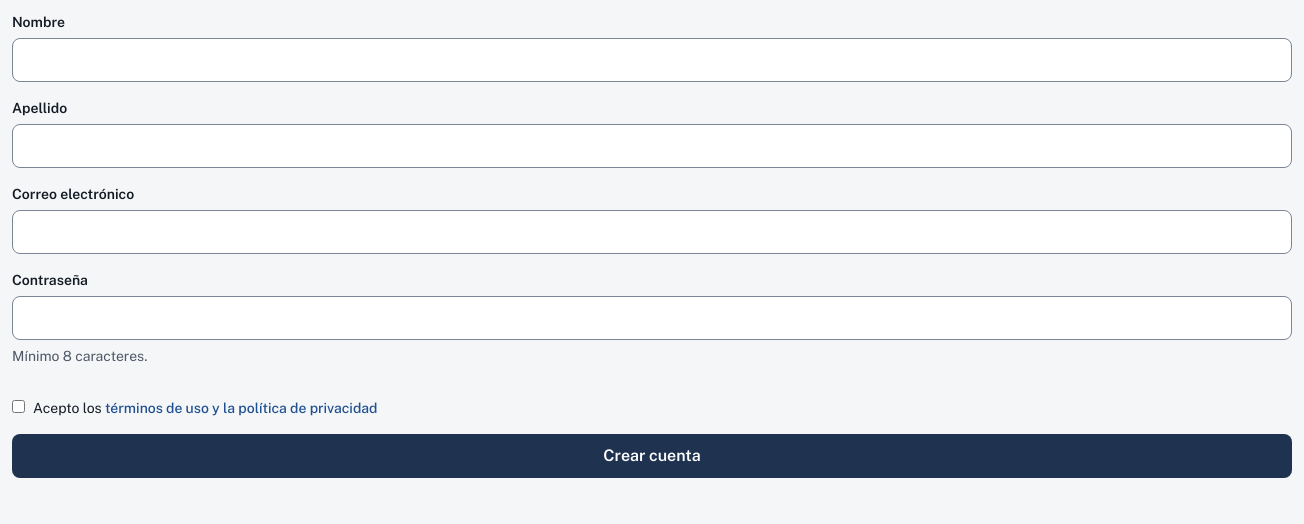
FormularioRegistro con captcha (NC-08b, Turnstile) › sin completar la verificación no envía y muestra el error en línea
This screenshot has width=1304, height=524.
In the field labelled "Nombre": (652, 60) top-left (12, 38), bottom-right (1292, 82), type "Ana"
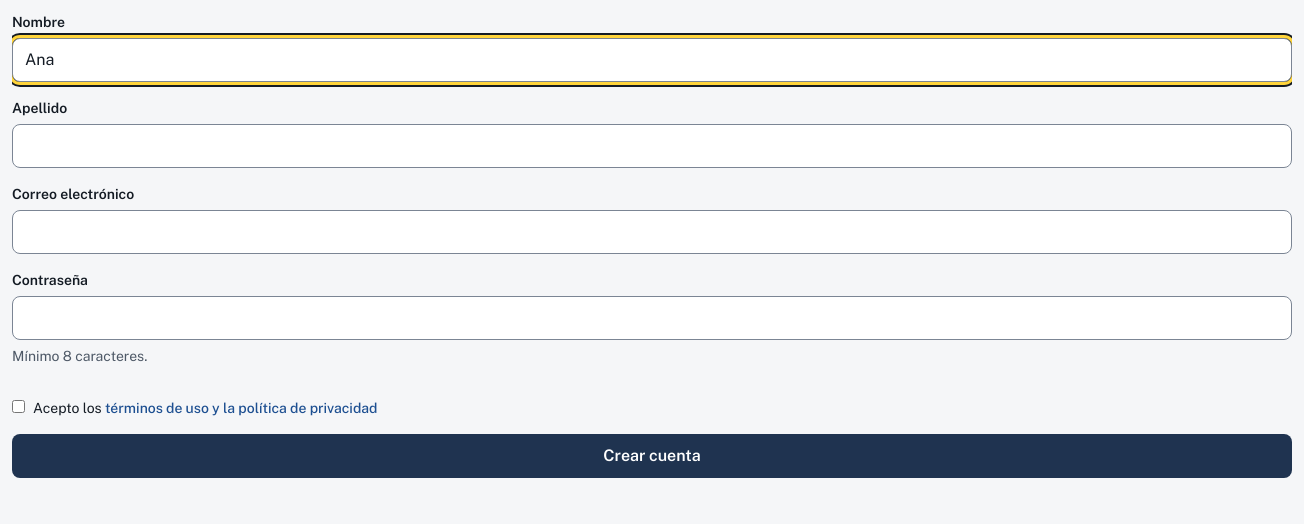
In the field labelled "Apellido": (652, 146) top-left (12, 124), bottom-right (1292, 168), type "Quispe"
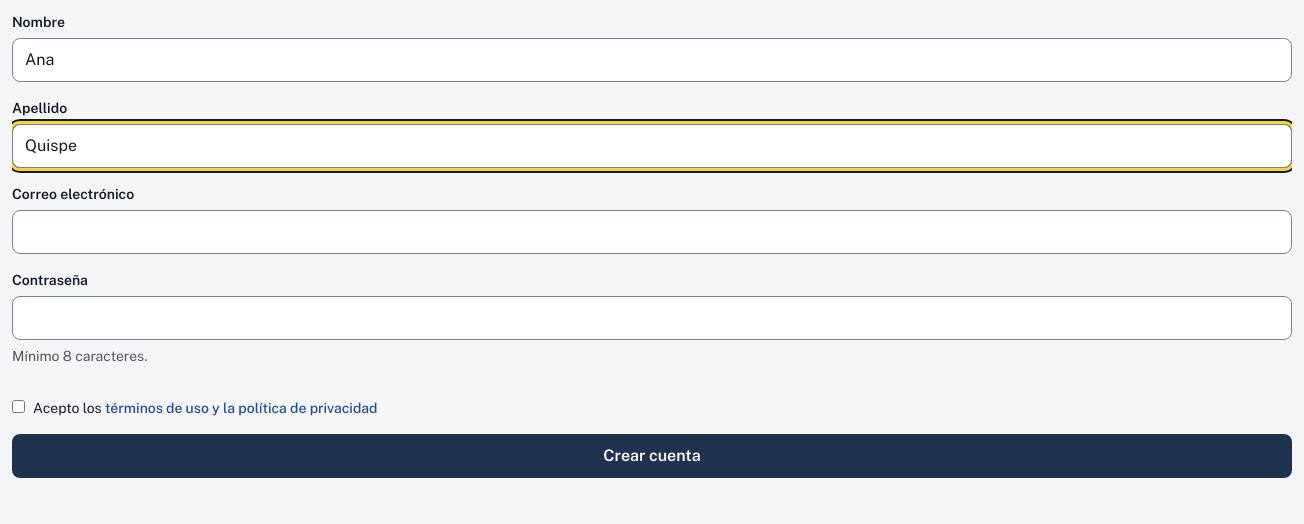
In the field labelled "Correo electrónico": (652, 232) top-left (12, 210), bottom-right (1292, 254), type "ana@correo.pe"
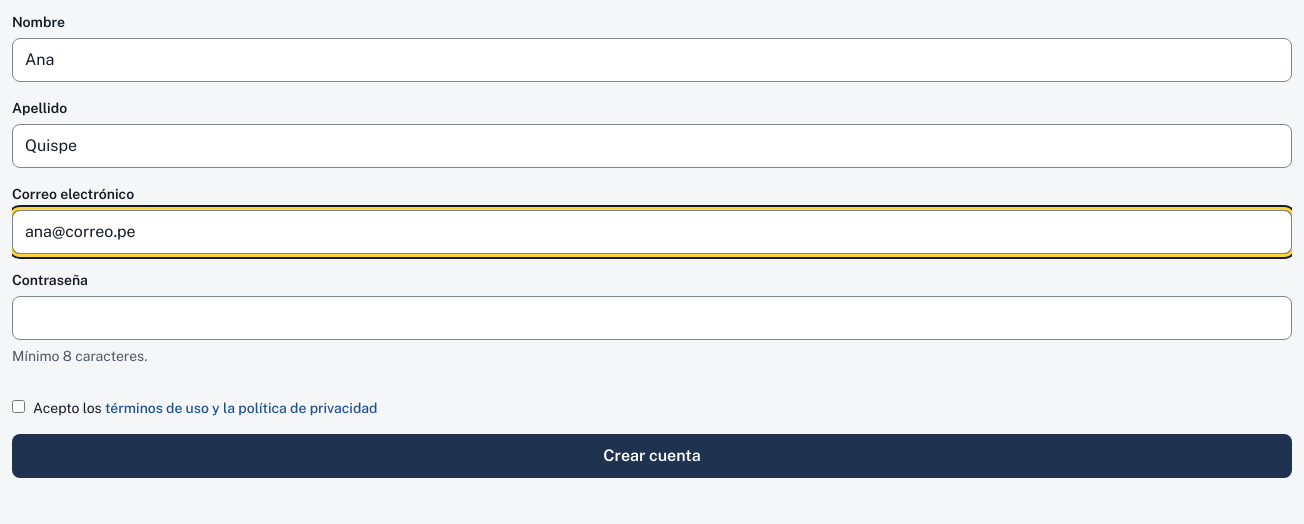
In the password field labelled "Contraseña": (652, 318) top-left (12, 296), bottom-right (1292, 340), type "claveSegura9"
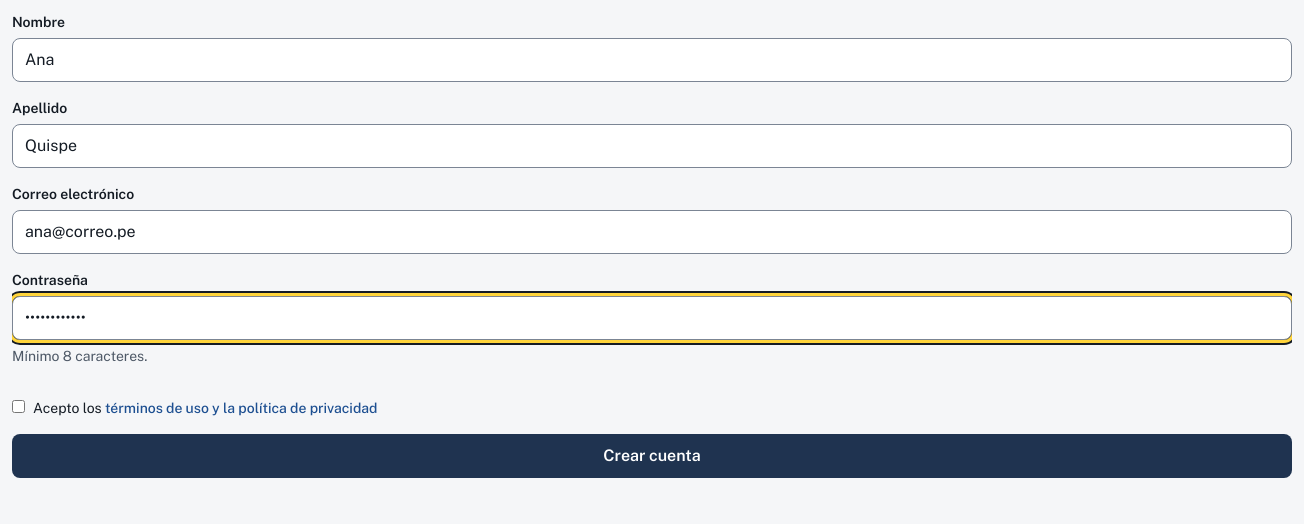
Click the checkbox: (18, 406) top-left (12, 400), bottom-right (25, 413)
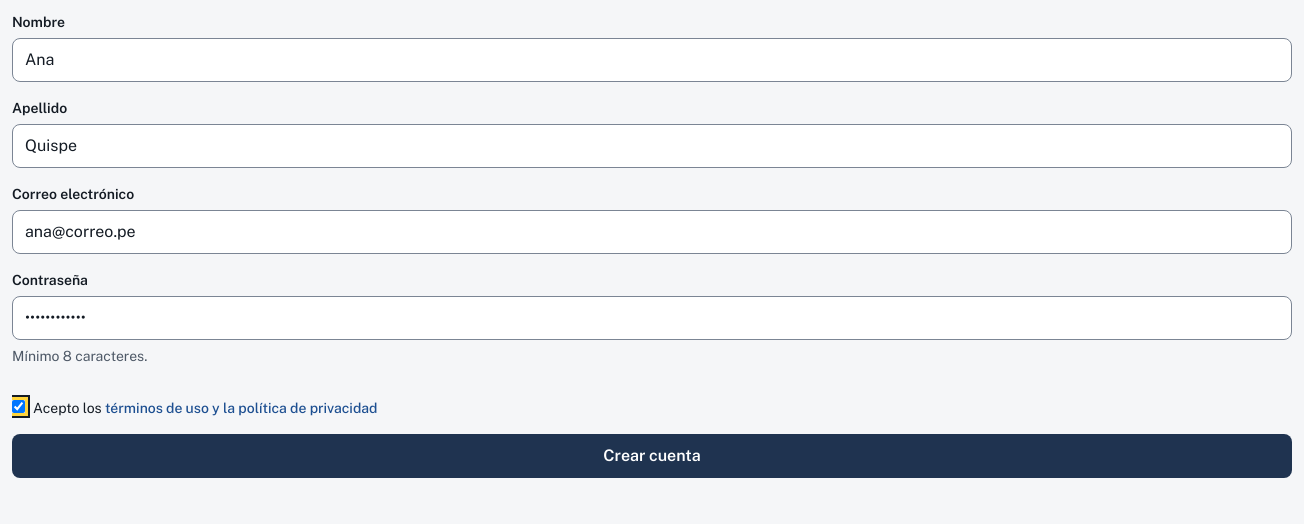
Click the button "Crear cuenta": (652, 456) top-left (12, 434), bottom-right (1292, 478)
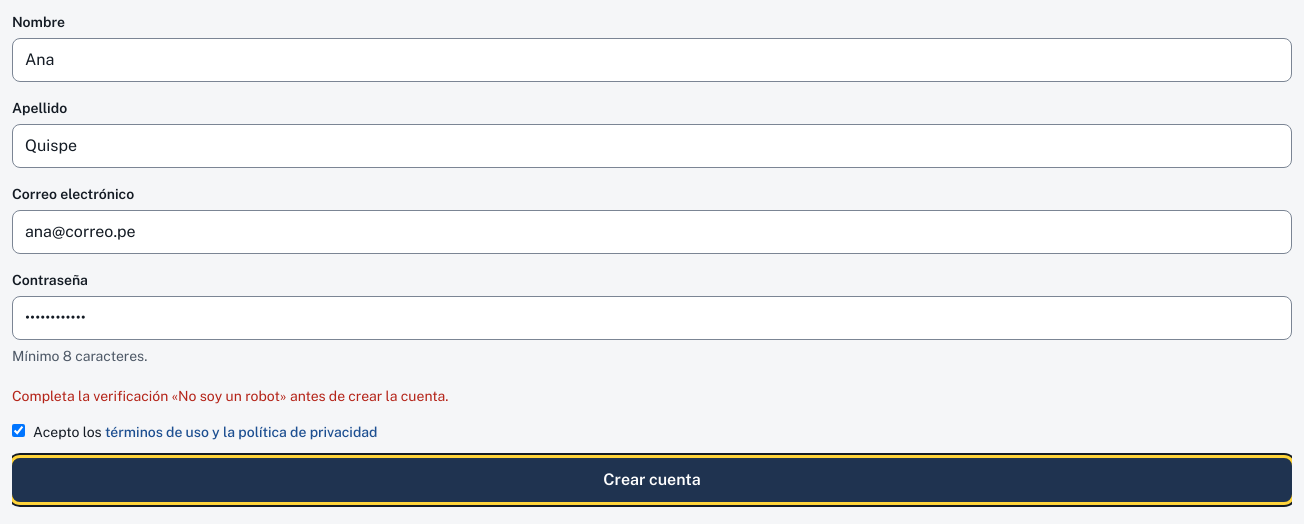
Now the message reads "Completa la verificación «No soy un robot» antes de crear la cuenta.", box top-left (12, 388), bottom-right (448, 404)
